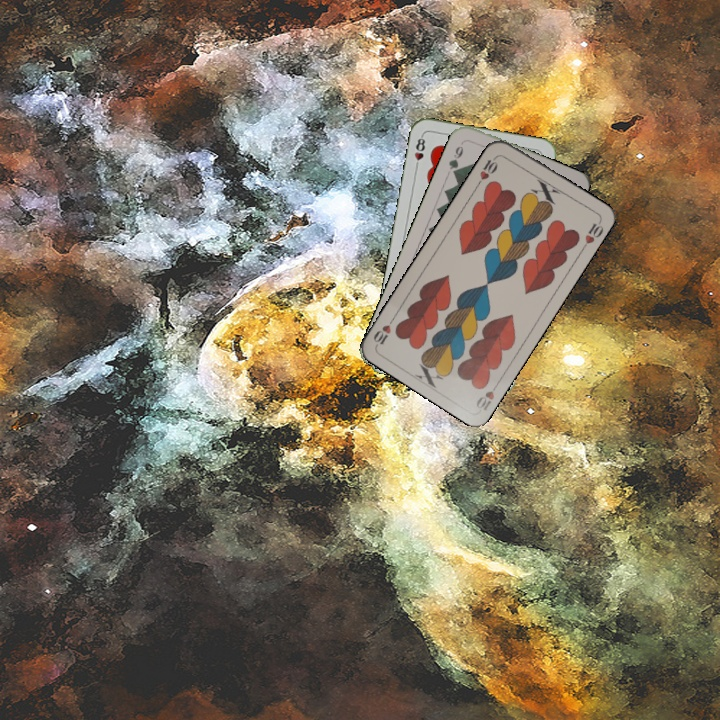G9: (444, 138, 467, 178)
H10: (472, 377, 502, 413), (473, 152, 501, 188)
H8: (410, 131, 428, 172)
